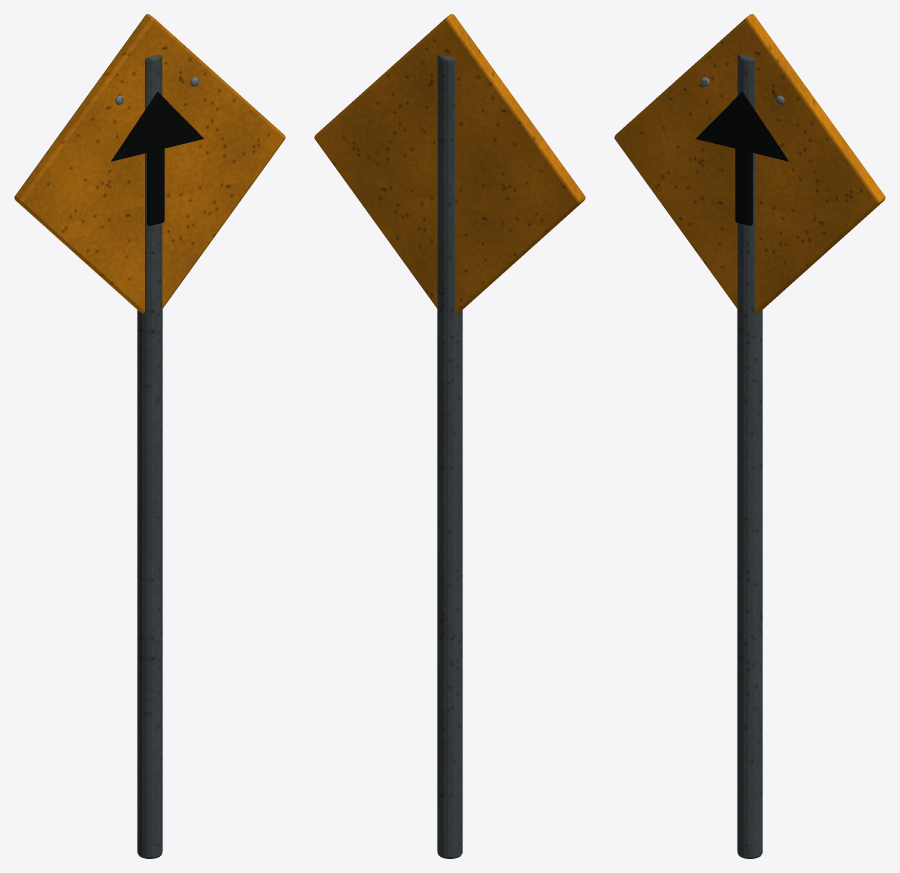
Rendered from PROP-D41961B709AF_lod0.glb.
The picture shows the model from 3 angles, left to right: view 1: azimuth 30°, elevation 25°; view 2: azimuth 150°, elevation 25°; view 3: azimuth 330°, elevation 25°; orthographic projection.
Visible parts, largest first — view 1: shaped_sign_plate.005, sign_post.020, direction_symbol.015, symbol_stem.015; view 2: shaped_sign_plate.005, sign_post.020; view 3: shaped_sign_plate.005, sign_post.020, direction_symbol.015, symbol_stem.015.
Part boxes in pixels (x1=…): shaped_sign_plate.005: x1=14, y1=14, x2=285, y2=313; sign_post.020: x1=137, y1=54, x2=162, y2=858; direction_symbol.015: x1=111, y1=91, x2=203, y2=161; symbol_stem.015: x1=147, y1=148, x2=164, y2=225; shaped_sign_plate.005: x1=314, y1=14, x2=585, y2=313; sign_post.020: x1=437, y1=54, x2=462, y2=858; shaped_sign_plate.005: x1=614, y1=14, x2=885, y2=313; sign_post.020: x1=737, y1=54, x2=762, y2=858; direction_symbol.015: x1=696, y1=91, x2=788, y2=161; symbol_stem.015: x1=735, y1=148, x2=752, y2=225.
Size of the model in its own units: 0.8517 by 2.56 by 0.083.
4 materials, 4 textured.
